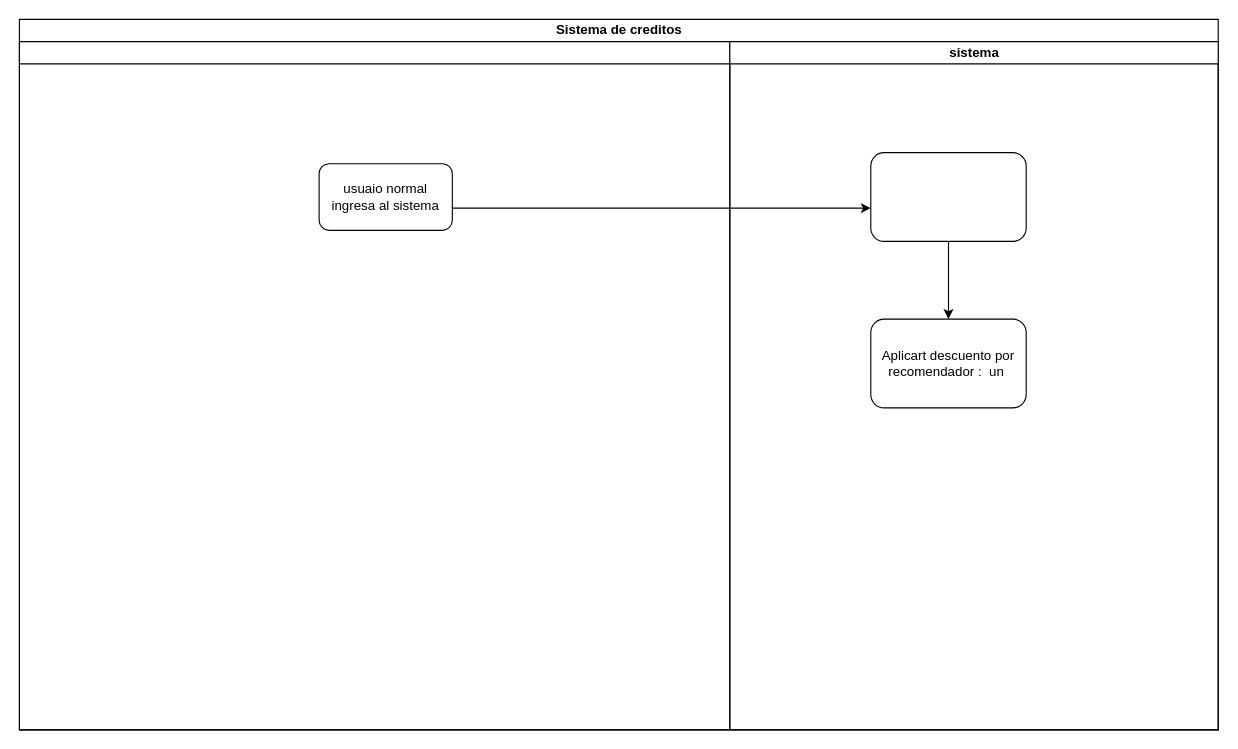
Image size: 1238x749. Some labels were removed from this diagram. Here are the shapes that lost their labels. From the top down, the box of each, then its label:
(870, 152, 1026, 241): sistema busca configuracion de creditos para usuarios nuevos
(18, 41, 730, 730): usuario
